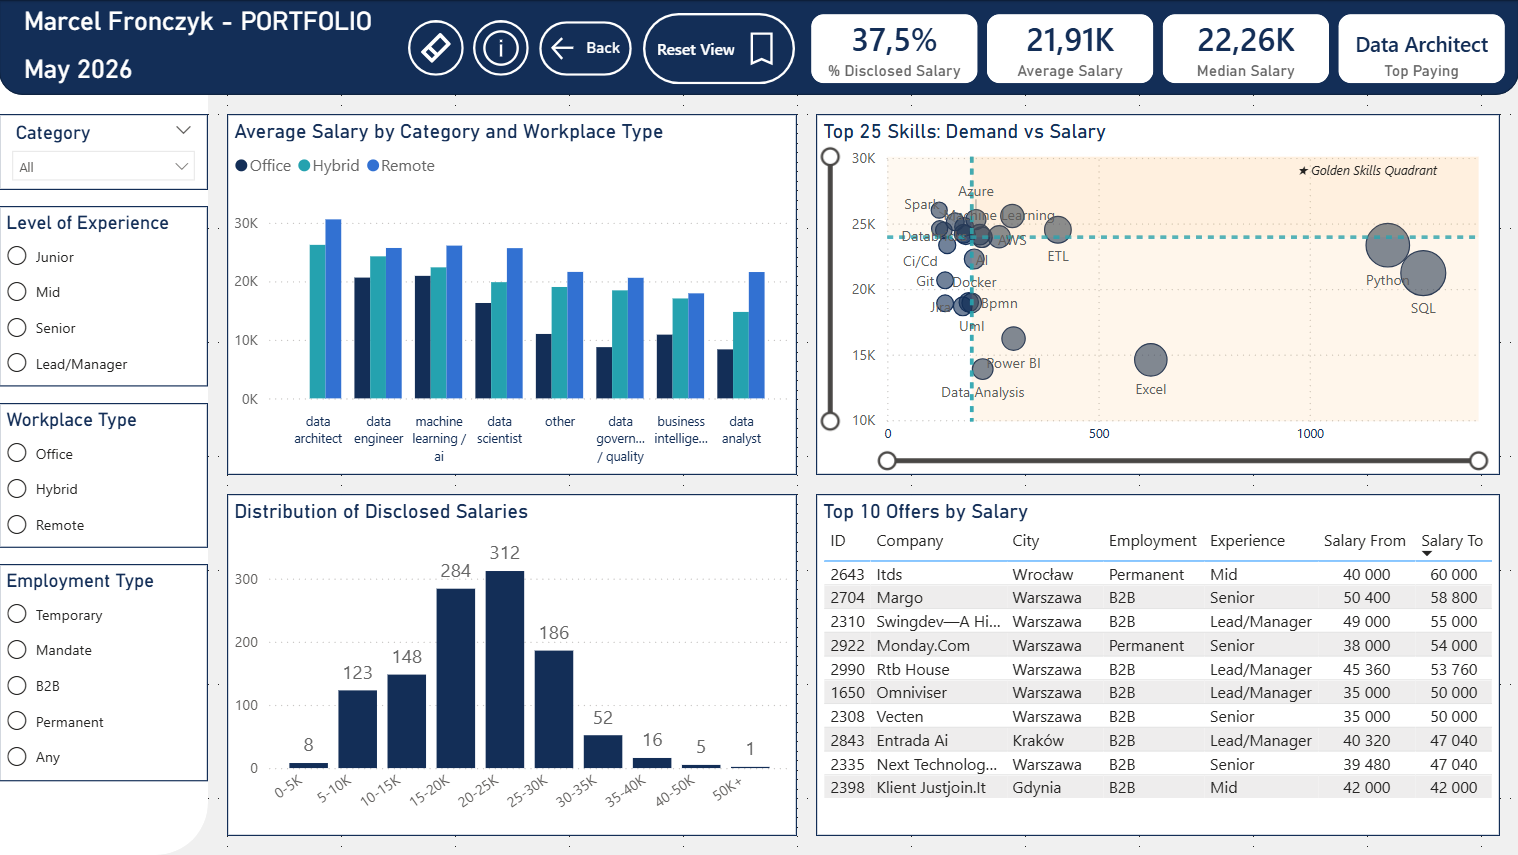

This screenshot's page, from the dashboard's own definition file:
{"tool":"powerbi","page":{"name":"Salary","canvas":[1280,720],"ordinal":1},"visuals":[{"type":"shape","title":"Slicer Tab","box":[0,0,176,720],"z":0},{"type":"shape","title":"Header","box":[0,0,1280,80],"z":1000},{"type":"textbox","box":[16,0,320,96],"z":2000},{"type":"clusteredColumnChart","title":"Average Salary by Category and Workplace Type","fields":{"Category":["Offers.category"],"Y":["Offers.Average Salary"],"Series":["Offers.Workplace Type"]},"box":[192,96,480,304],"z":3000},{"type":"clusteredColumnChart","title":"Distribution of Disclosed Salaries","fields":{"Category":["Offers.Salary Bin"],"Y":["Offers.Total Offers"]},"box":[192,416,480,288],"z":4000},{"type":"scatterChart","title":"Top 25 Skills: Demand vs Salary","fields":{"Category":["OfferSkills.Skill"],"X":["OfferSkills.Skill demand"],"Y":["OfferSkills.Avg Salary per Skill"],"Size":["OfferSkills.Skill demand"]},"box":[688,96,576,304],"z":5000},{"type":"listSlicer","title":"Level of Experience","fields":{"Values":["Offers.experience_level"]},"box":[0,173.7,176,152],"z":6000},{"type":"listSlicer","title":"Workplace Type","fields":{"Values":["Offers.workplace_type"]},"box":[0,339.3,176,122],"z":7000},{"type":"tableEx","title":"Top 10 Offers by Salary","fields":{"Values":["Offers._offerID","Offers.Company","Offers.City","Offers.Employment Type","Offers.Level of Experience","Offers.Salary From","Offers.Salary to"]},"box":[688,416,576,288],"z":8000},{"type":"slicer","title":"Category Slicer","fields":{"Values":["Offers.category"]},"box":[0,96,176,64],"z":9000},{"type":"listSlicer","title":"Employment Type","fields":{"Values":["Offers.employment_type"]},"box":[0,475,176,183],"z":10000},{"type":"cardVisual","title":"KPIs","fields":{"Data":["Offers.Disclosed Salary%","Offers.Salary Average","Offers.Salary Median","OfferSkills.Top Paying Category"]},"box":[672,0,608,82],"z":11000},{"type":"actionButton","title":"Clear Slicers","box":[344,17,47,47],"z":12000},{"type":"actionButton","title":"Reset View Button","box":[542,11,128,60],"z":13000},{"type":"actionButton","title":"Previous Page","box":[454,17,80,48],"z":14000},{"type":"actionButton","title":"Expand Explanation","box":[399,17,47,47],"z":16000},{"type":"textbox","title":"Scatter Textbox","box":[1088,128,144,32],"z":18000}]}

Visuals, with their boxes in screenshot pixels (x1, y1, x2, y2), scaled from the page's 1280x720 canvas onto the 1518x855 screenshot:
"Slicer Tab" shape: pyautogui.locateOnScreen(0, 0, 209, 854)
"Header" shape: pyautogui.locateOnScreen(0, 0, 1517, 95)
textbox: pyautogui.locateOnScreen(19, 0, 398, 114)
"Average Salary by Category and Workplace Type" clusteredColumnChart: pyautogui.locateOnScreen(228, 114, 797, 475)
"Distribution of Disclosed Salaries" clusteredColumnChart: pyautogui.locateOnScreen(228, 494, 797, 836)
"Top 25 Skills: Demand vs Salary" scatterChart: pyautogui.locateOnScreen(816, 114, 1499, 475)
"Level of Experience" listSlicer: pyautogui.locateOnScreen(0, 206, 209, 387)
"Workplace Type" listSlicer: pyautogui.locateOnScreen(0, 403, 209, 548)
"Top 10 Offers by Salary" tableEx: pyautogui.locateOnScreen(816, 494, 1499, 836)
"Category Slicer" slicer: pyautogui.locateOnScreen(0, 114, 209, 190)
"Employment Type" listSlicer: pyautogui.locateOnScreen(0, 564, 209, 781)
"KPIs" cardVisual: pyautogui.locateOnScreen(797, 0, 1517, 97)
"Clear Slicers" actionButton: pyautogui.locateOnScreen(408, 20, 464, 76)
"Reset View Button" actionButton: pyautogui.locateOnScreen(643, 13, 795, 84)
"Previous Page" actionButton: pyautogui.locateOnScreen(538, 20, 633, 77)
"Expand Explanation" actionButton: pyautogui.locateOnScreen(473, 20, 529, 76)
"Scatter Textbox" textbox: pyautogui.locateOnScreen(1290, 152, 1461, 190)
